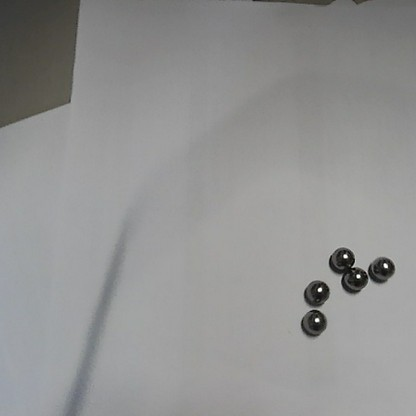ironball: (304, 279, 329, 305), (330, 245, 353, 270), (302, 310, 326, 333), (371, 256, 393, 279), (343, 268, 367, 289)
